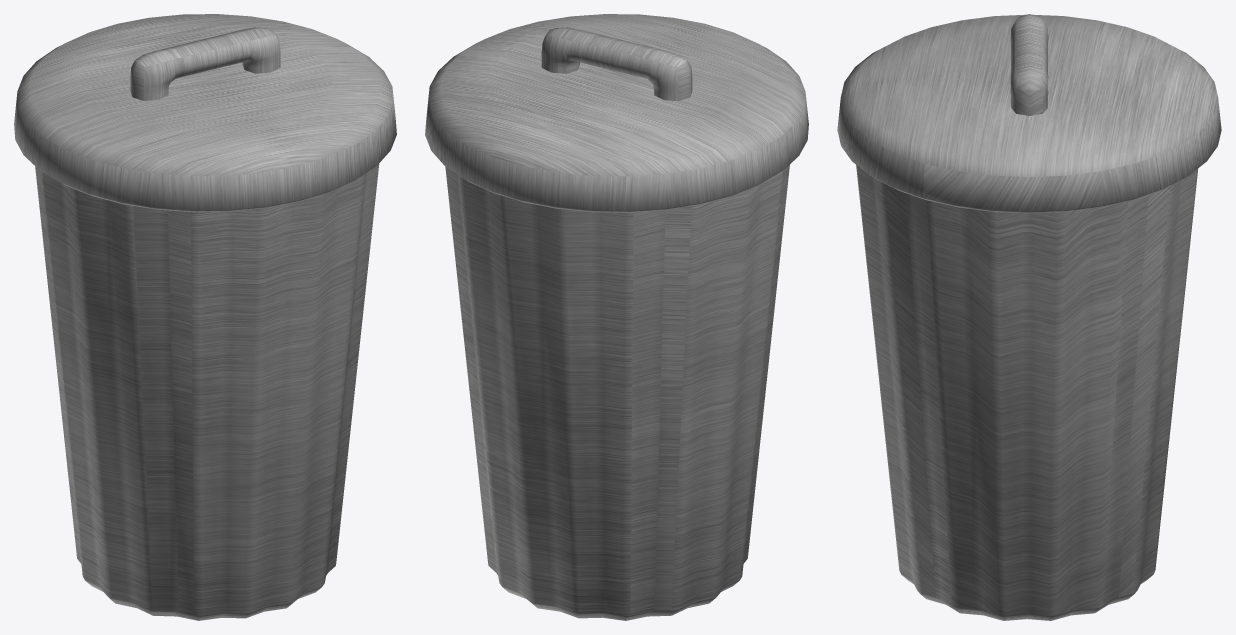
Rendered from bin.fbx.
3 renders of one model, left to right at view 1: azimuth 30°, elevation 25°; view 2: azimuth 150°, elevation 25°; view 3: azimuth 270°, elevation 25°, orthographic.
Visible parts, largest first — view 1: bin; view 2: bin; view 3: bin.
Boxes of the visible parts, bbox=[...] form: bin: bbox=[14, 14, 396, 620]; bin: bbox=[425, 14, 808, 620]; bin: bbox=[837, 14, 1221, 620].
Size of the model in its own units: 73.24 by 111 by 73.24.
